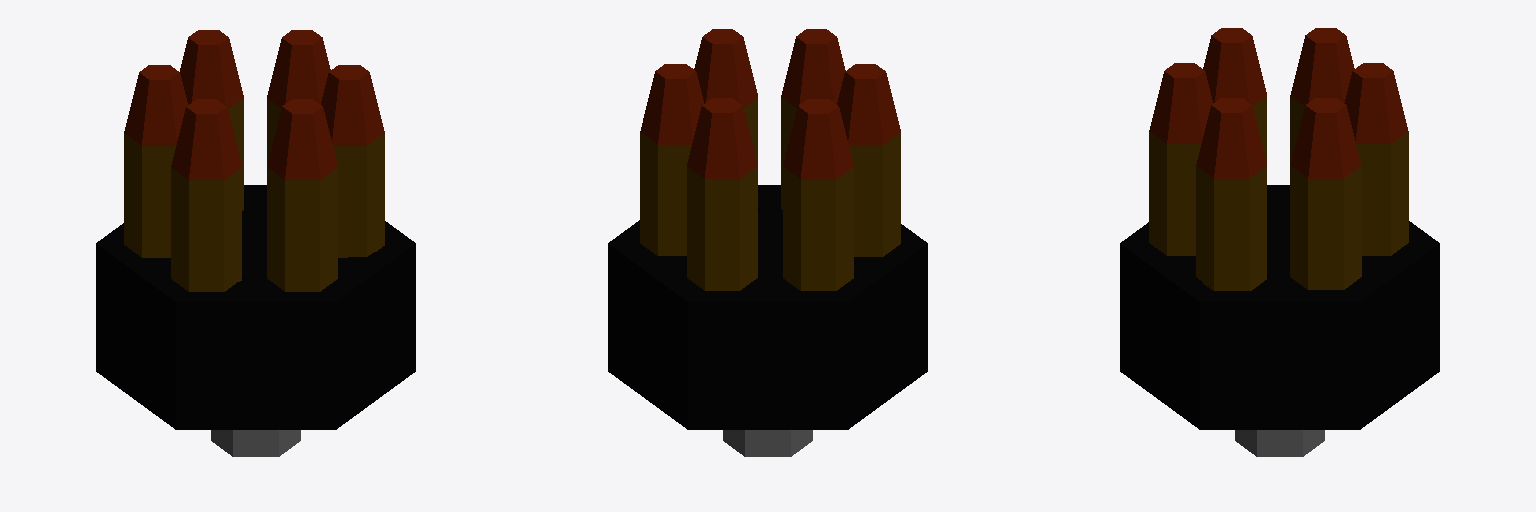
The model's file is Revolver_Speedloader.obj.
3 views of the same model, side by side, from view 1: azimuth 30°, elevation 25°; view 2: azimuth 150°, elevation 25°; view 3: azimuth 270°, elevation 25° (orthographic).
Parts seen in each view (by area): view 1: Revolver_Speedloader_Cylinder.005; view 2: Revolver_Speedloader_Cylinder.005; view 3: Revolver_Speedloader_Cylinder.005.
Boxes of the visible parts, <box> form: Revolver_Speedloader_Cylinder.005: <box>96,30,415,456</box>; Revolver_Speedloader_Cylinder.005: <box>608,29,927,456</box>; Revolver_Speedloader_Cylinder.005: <box>1120,28,1439,456</box>.
Bounding box in the file's own units: 0.0354 × 0.0519 × 0.0408.